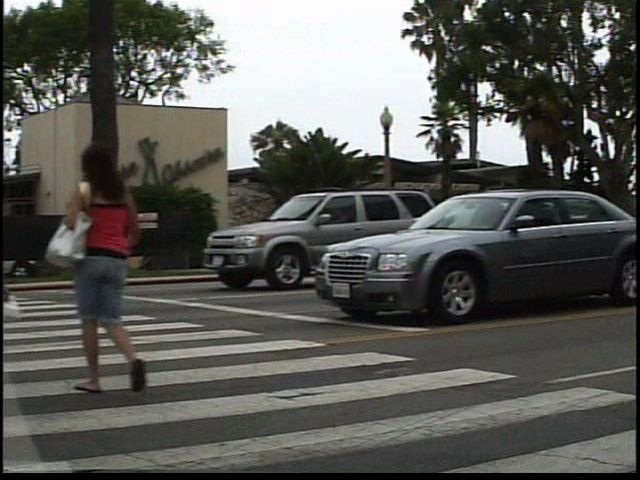person: (75, 139, 171, 407)
